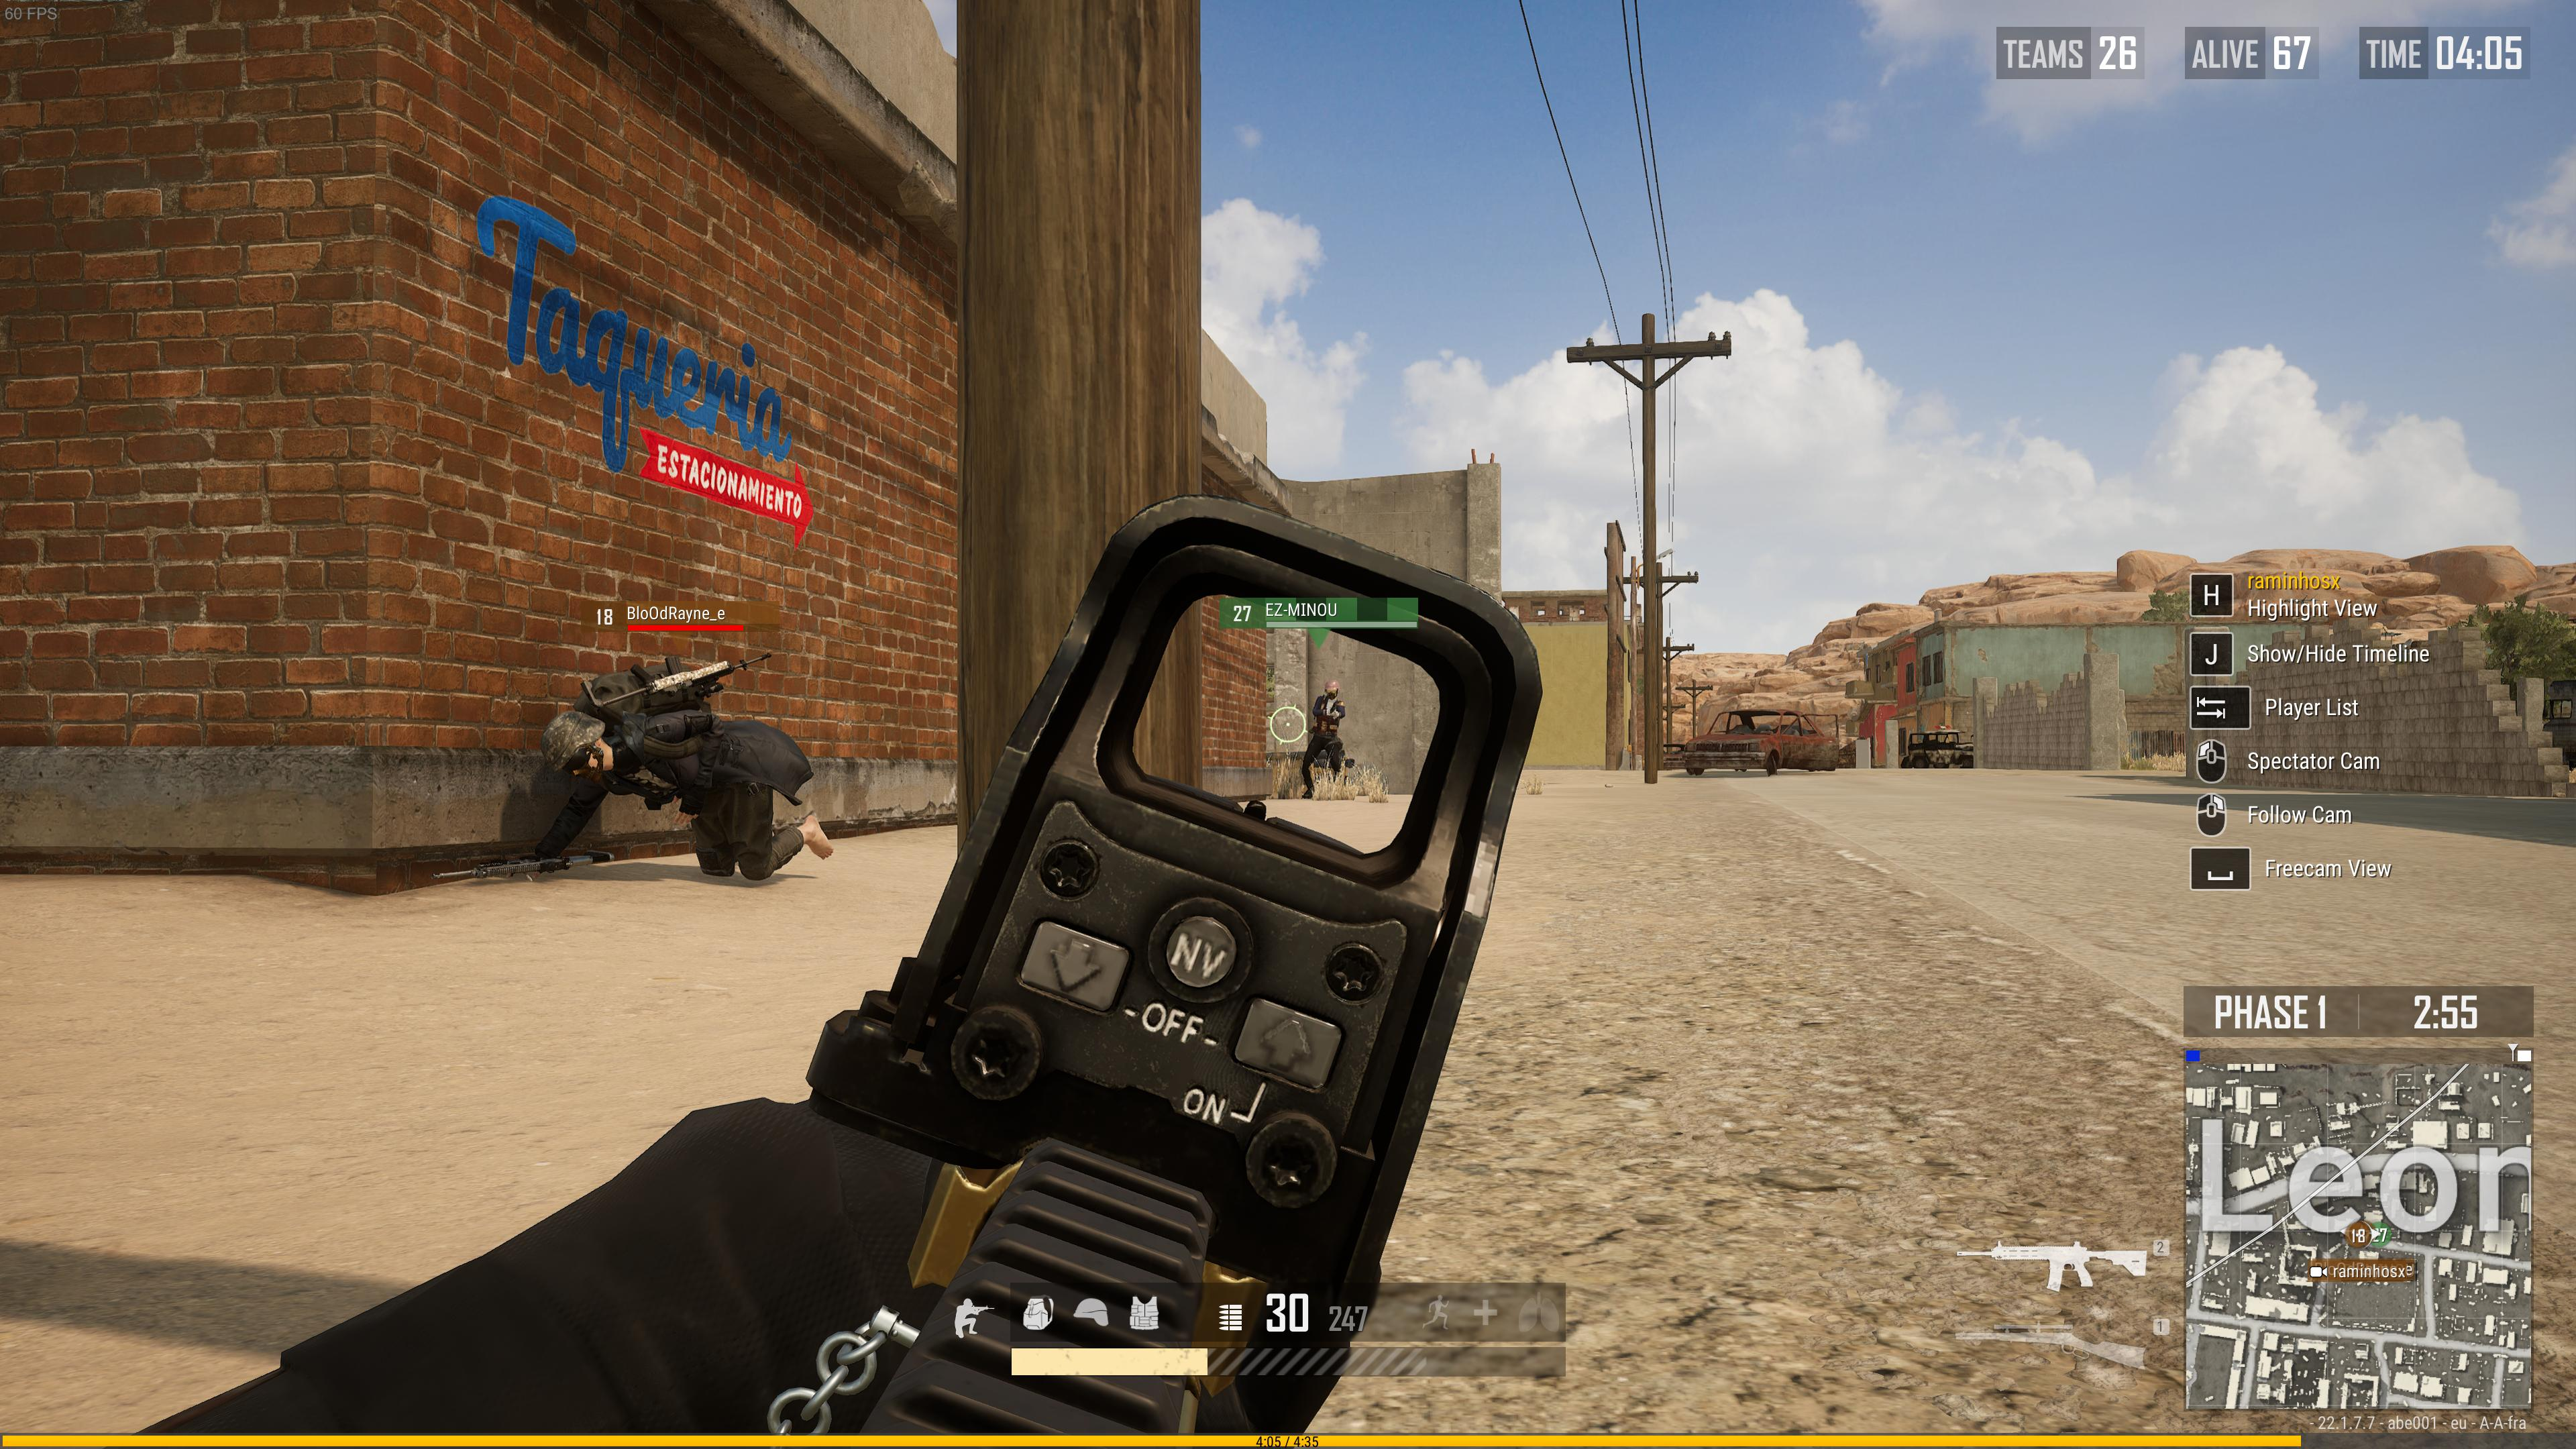enemy: (1300, 678, 1350, 798)
enemy_head: (1323, 679, 1341, 699)
